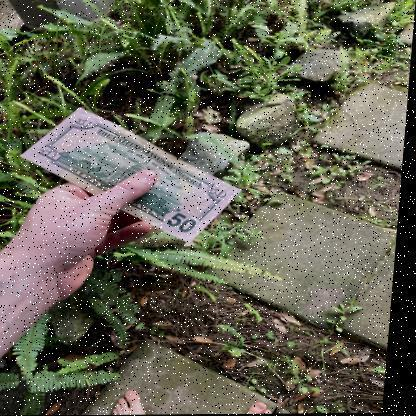fifty-back: (23, 107, 245, 244)
